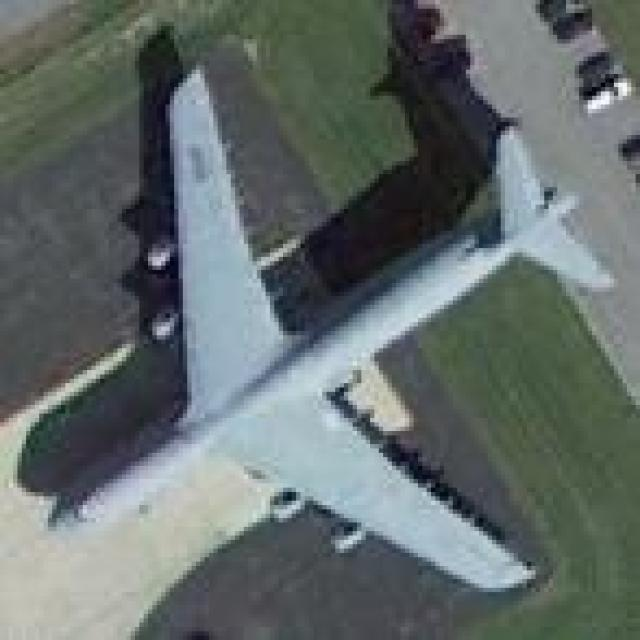C-5_TopDown: (19, 23, 618, 593)
